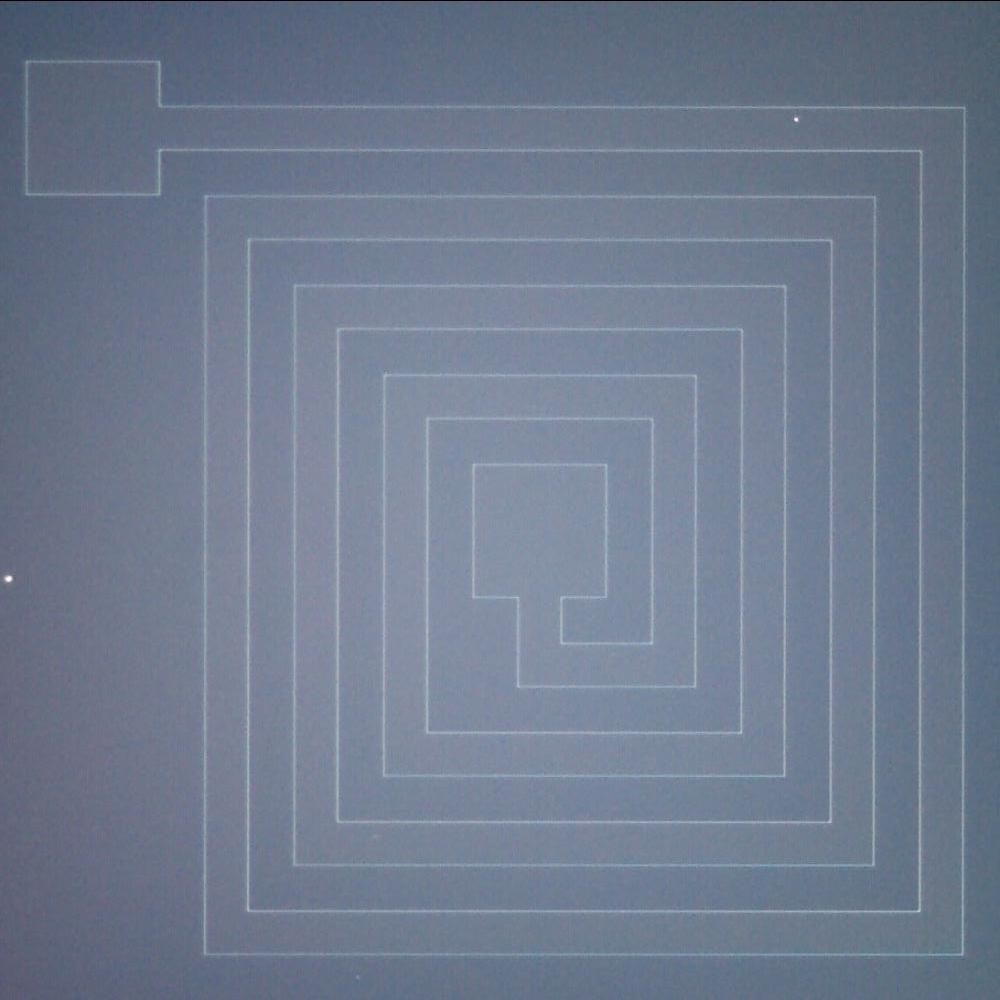dot: (780, 106, 814, 134), (0, 564, 24, 596)
